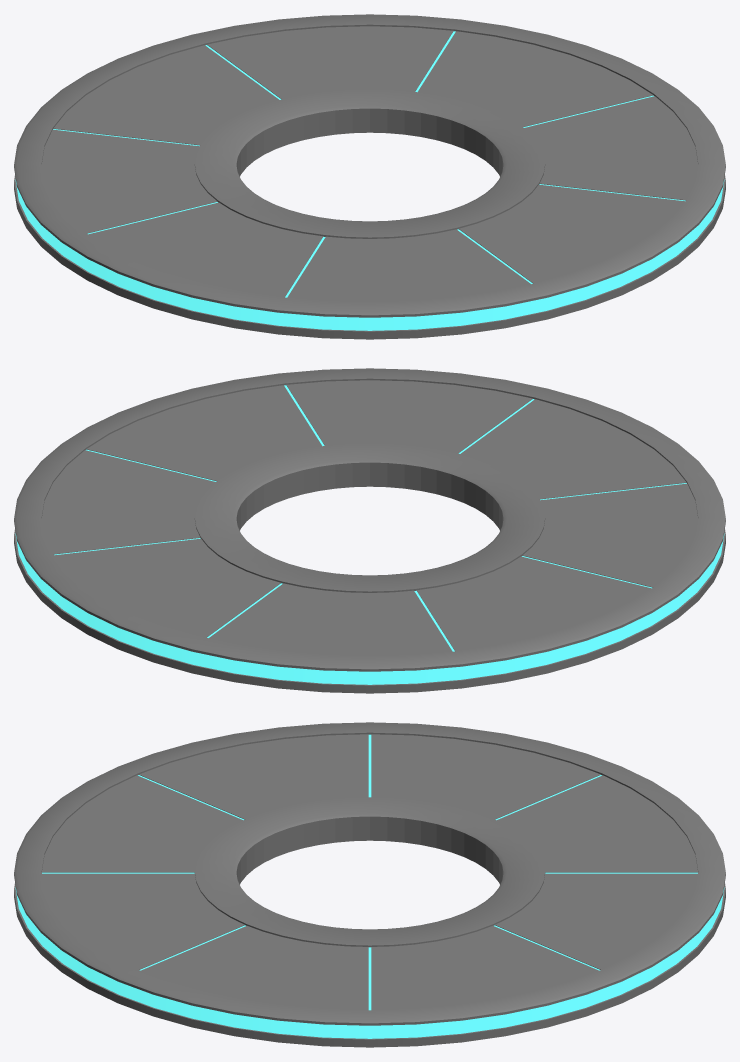
The model's file is Ring_05.fbx.
3 renders of one model, top to bottom at view 1: azimuth 30°, elevation 25°; view 2: azimuth 150°, elevation 25°; view 3: azimuth 270°, elevation 25°, orthographic.
Parts seen in each view (by area): view 1: Ring_Outer_010; view 2: Ring_Outer_010; view 3: Ring_Outer_010.
Boxes of the visible parts, x1,y1,x2,y2 form: Ring_Outer_010: (14,14,725,339); Ring_Outer_010: (14,368,725,693); Ring_Outer_010: (14,722,725,1047).
Size of the model in its own units: 16 by 0.6367 by 16.
